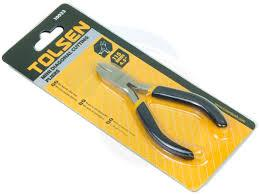pliers: (94, 60, 228, 160)
